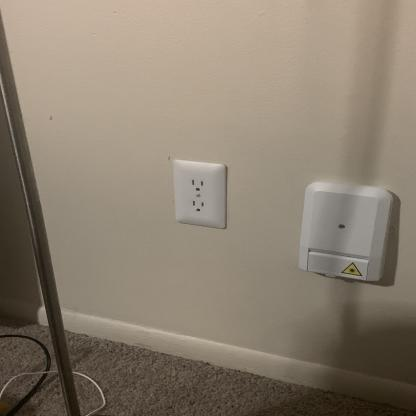OUTLET: (174, 159, 229, 229)
